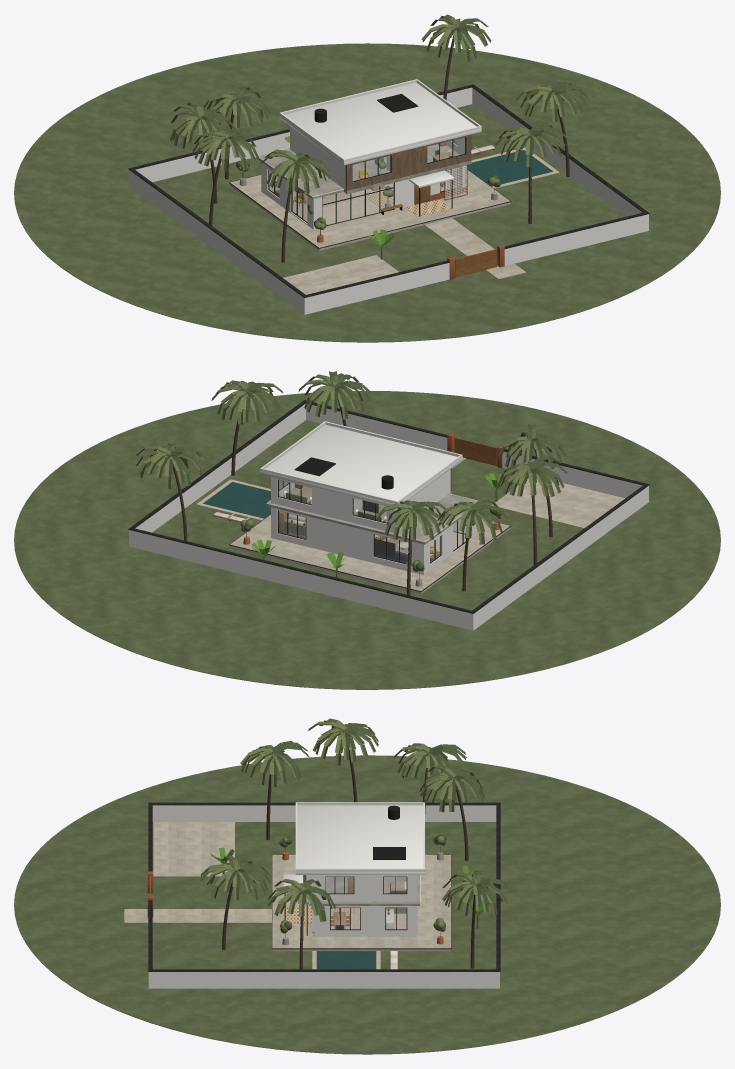
The model's file is modern-villa.glb.
3 views of the same model, one above another, from view 1: azimuth 30°, elevation 25°; view 2: azimuth 150°, elevation 25°; view 3: azimuth 270°, elevation 25° (orthographic).
Parts seen in each view (by area): view 1: MV_Lawn, MV_Boundary, Up_Roof, MV_Plinth, MV_Path, MV_GF_Floors, MV_GF_Glass, Up_Slab, MV_GF_Walls, Up_Facade, MV_Coconut_0, MV_Pool (+11 smaller); view 2: MV_Lawn, MV_Boundary, Up_Roof, MV_Plinth, MV_GF_Walls, MV_Path, Up_Walls, MV_Coconut_4, MV_Coconut_5, MV_Coconut_6, MV_Pool, MV_Coconut_2 (+7 smaller); view 3: MV_Lawn, MV_Boundary, Up_Roof, MV_Plinth, MV_Path, MV_GF_Walls, MV_Coconut_3, MV_Coconut_5, MV_Coconut_6, MV_Coconut_2, Up_Walls, MV_Coconut_0 (+7 smaller).
Boxes of the visible parts, x1=… form: MV_Lawn: x1=14, y1=43, x2=720, y2=342; MV_Boundary: x1=128, y1=84, x2=649, y2=314; Up_Roof: x1=279, y1=79, x2=481, y2=165; MV_Plinth: x1=229, y1=168, x2=511, y2=250; MV_Path: x1=266, y1=218, x2=525, y2=311; MV_GF_Floors: x1=261, y1=181, x2=456, y2=226; MV_GF_Glass: x1=269, y1=167, x2=460, y2=224; Up_Slab: x1=258, y1=144, x2=471, y2=199; MV_GF_Walls: x1=261, y1=162, x2=466, y2=229; Up_Facade: x1=345, y1=134, x2=471, y2=190; MV_Coconut_0: x1=261, y1=149, x2=330, y2=262; MV_Pool: x1=467, y1=147, x2=559, y2=188; MV_Lawn: x1=14, y1=391, x2=720, y2=689; MV_Boundary: x1=128, y1=400, x2=649, y2=630; Up_Roof: x1=260, y1=421, x2=462, y2=505; MV_Plinth: x1=229, y1=514, x2=510, y2=593; MV_GF_Walls: x1=271, y1=507, x2=476, y2=574; MV_Path: x1=452, y1=457, x2=624, y2=533; Up_Walls: x1=271, y1=469, x2=450, y2=532; MV_Coconut_4: x1=211, y1=380, x2=283, y2=475; MV_Coconut_5: x1=298, y1=371, x2=371, y2=426; MV_Coconut_6: x1=375, y1=500, x2=445, y2=595; MV_Pool: x1=196, y1=479, x2=270, y2=520; MV_Coconut_2: x1=497, y1=455, x2=567, y2=565; MV_Lawn: x1=14, y1=755, x2=720, y2=1054; MV_Boundary: x1=147, y1=802, x2=500, y2=988; Up_Roof: x1=295, y1=802, x2=424, y2=874; MV_Plinth: x1=272, y1=855, x2=451, y2=951; MV_Path: x1=124, y1=822, x2=271, y2=922; MV_GF_Walls: x1=312, y1=906, x2=417, y2=936; MV_Coconut_3: x1=442, y1=870, x2=513, y2=968; MV_Coconut_5: x1=200, y1=855, x2=270, y2=949; MV_Coconut_6: x1=419, y1=765, x2=484, y2=861; MV_Coconut_2: x1=308, y1=718, x2=378, y2=802; Up_Walls: x1=306, y1=875, x2=417, y2=901; MV_Coconut_0: x1=240, y1=741, x2=309, y2=840.
Size of the model in its own units: 64 by 10.86 by 64.
Materials: 46 (17 with a texture image).
